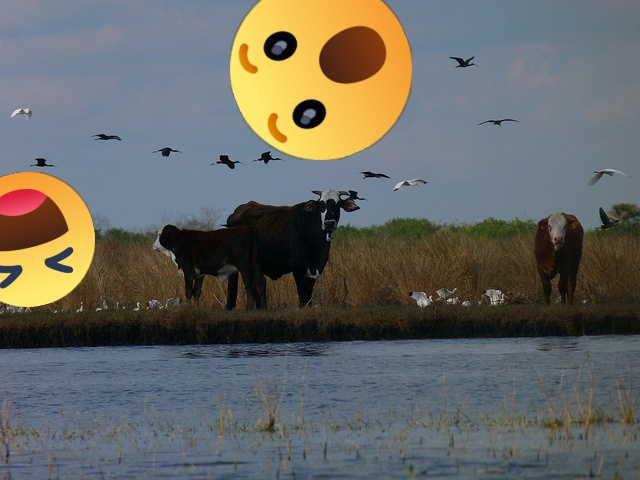haha: (0, 172, 95, 307)
wow: (230, 0, 412, 160)
